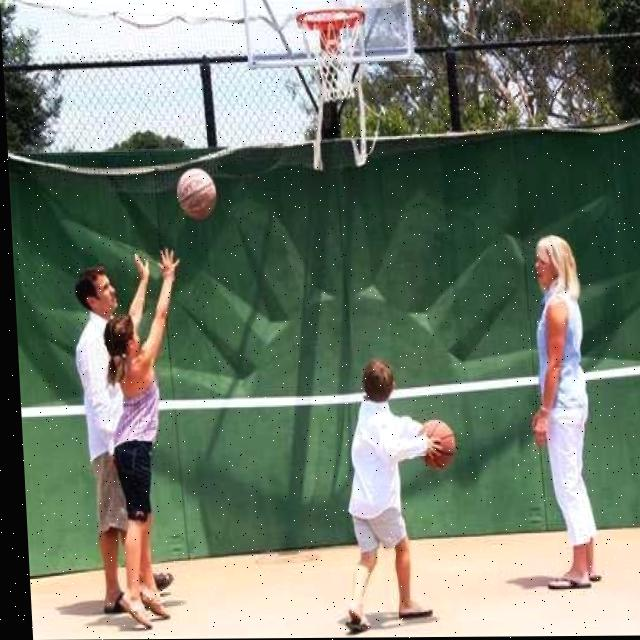basketball: (175, 165, 219, 222), (415, 418, 459, 470)
hoop: (294, 7, 372, 104)
